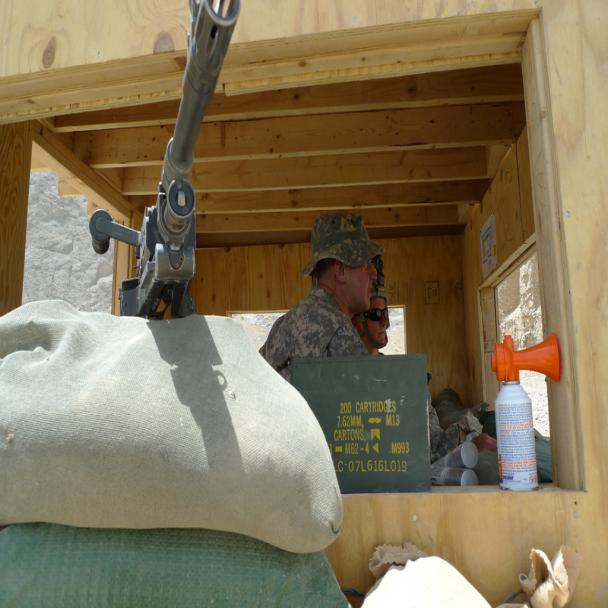Gun: (80, 0, 270, 340)
